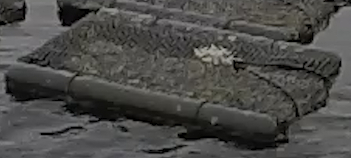bag: (6, 10, 341, 137)
